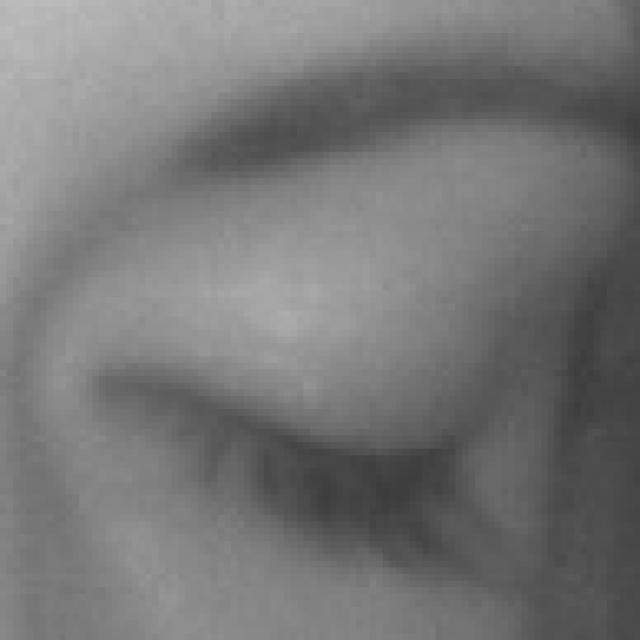close: (0, 49, 640, 594)
